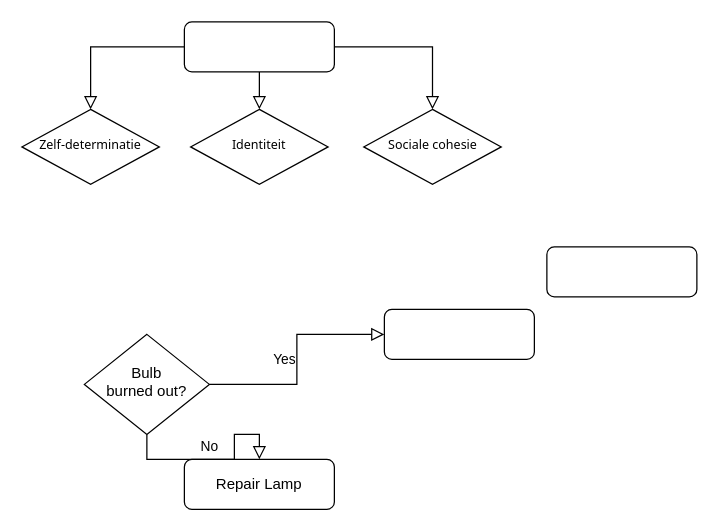
The diagram is 719 pixels wide and 531 high, and some of its shapes have lost their labels. Here are the shapes that lost their labels. From the top down, the centre of each, then its label:
At (x=258, y=46): "Succes is geen garantie op geluk".
At (x=621, y=271): "Plug in lamp".
At (x=458, y=333): "Replace Bulb".
